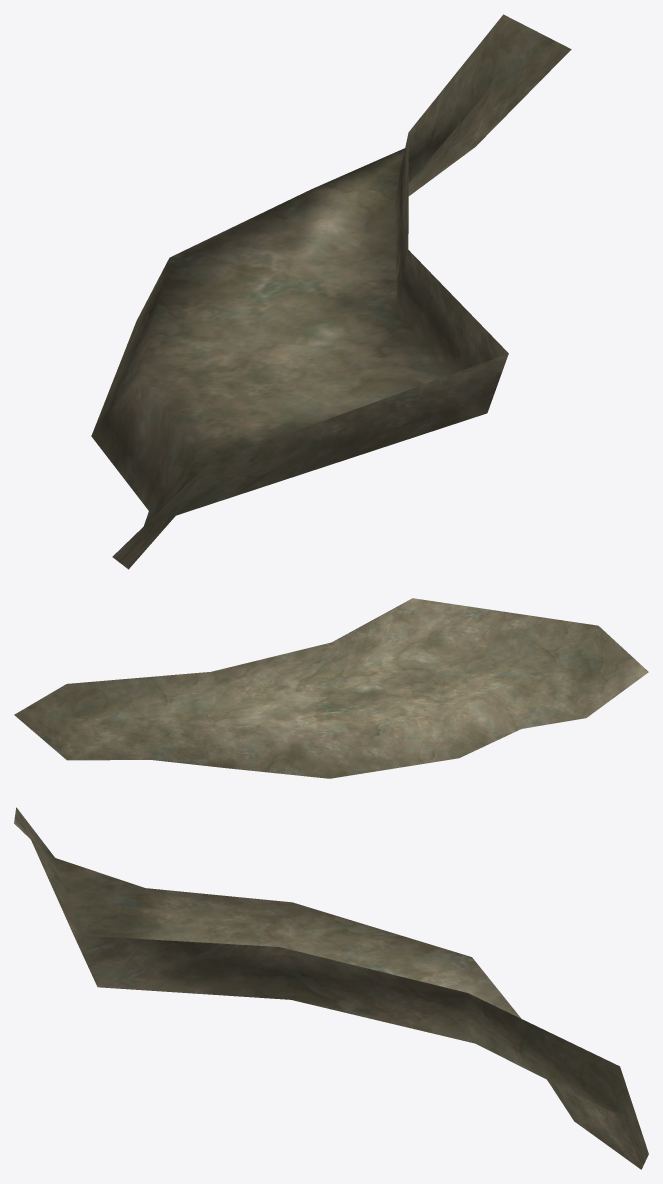
The model's file is EKH_THRONE_PS_TH_OBJECT17.fbx.
3 views of the same model, one above another, from view 1: azimuth 30°, elevation 25°; view 2: azimuth 150°, elevation 25°; view 3: azimuth 270°, elevation 25° (orthographic). The views are drawn at different scales.
Visible parts, largest first — view 1: EKH_THRONE_PS_TH_OBJECT17; view 2: EKH_THRONE_PS_TH_OBJECT17; view 3: EKH_THRONE_PS_TH_OBJECT17.
Part boxes in pixels (box(x1,y1,x2,y2)): EKH_THRONE_PS_TH_OBJECT17: box(91, 14, 571, 569); EKH_THRONE_PS_TH_OBJECT17: box(14, 598, 648, 778); EKH_THRONE_PS_TH_OBJECT17: box(14, 807, 648, 1169).
Size of the model in its own units: 34603 by 5322 by 28088.
Materials: 1 (1 with a texture image).
